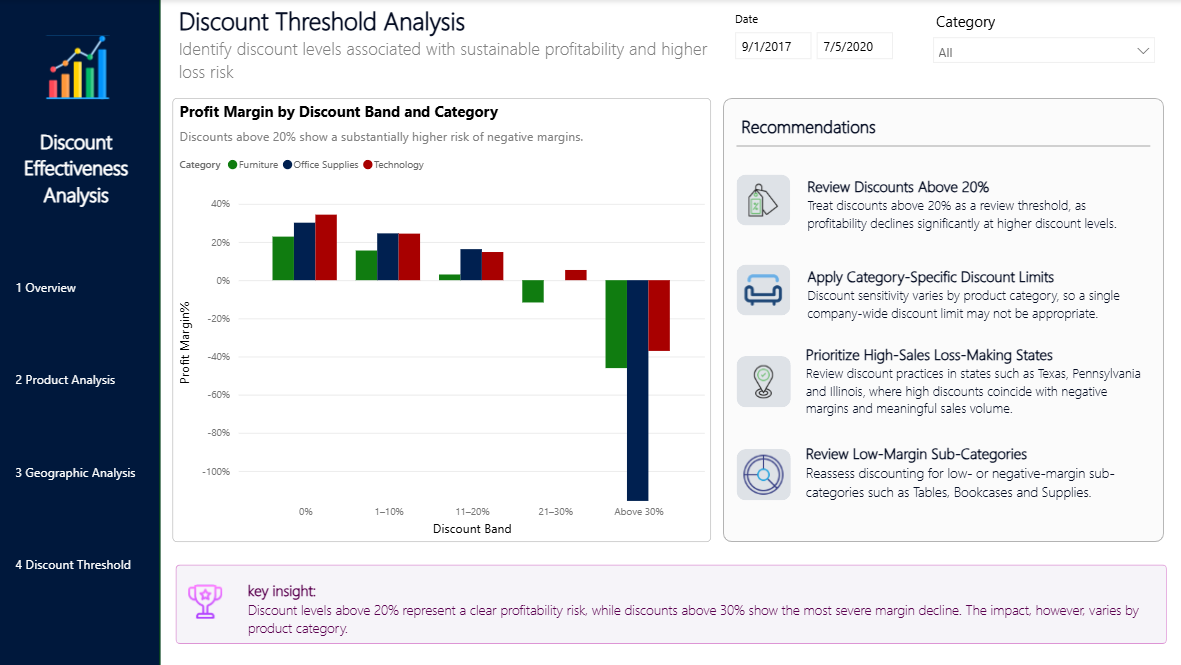

Layout of this report page (visuals, bound fields, positions):
{"tool":"powerbi","page":{"name":"Discount Threshold","canvas":[1280,720],"ordinal":3},"visuals":[{"type":"shape","box":[0,0,176.4,808.3],"z":0,"group":"g1"},{"type":"shape","box":[783.7,106.9,476.1,479.3],"z":0},{"type":"textbox","box":[190.5,0,593.7,106.3],"z":1000},{"type":"actionButton","title":"4 Discount Threshold","box":[0,268.4,176.2,83.4],"z":1000,"group":"g1"},{"type":"slicer","fields":{"Values":["DIM_Product.Category"]},"box":[1000.7,8.1,259.1,66.4],"z":2000},{"type":"actionButton","title":"3 Geographic Analysis","box":[0.6,369,176.4,82.6],"z":2000,"group":"g1"},{"type":"slicer","fields":{"Values":["DIM_Date.Date"]},"box":[783.7,8.1,217,66.4],"z":3000},{"type":"actionButton","title":"2 Product Analysis","box":[0.6,468.9,176.4,82.6],"z":3000,"group":"g1"},{"type":"clusteredColumnChart","title":"Profit Margin by Discount Band and Category","fields":{"Y":["Measures_Table.profit margin"],"Category":["Fact_Sales.Discount Band"],"Series":["DIM_Product.Category"]},"box":[189.4,106.9,581.3,479.3],"z":4000},{"type":"actionButton","title":"1 Overview","box":[0.6,568.8,176.4,82.6],"z":4000,"group":"g1"},{"type":"textbox","box":[798.3,119.8,446.9,38.9],"z":5000},{"type":"textbox","box":[15.2,132.8,141.6,111.8],"z":5000,"group":"g1"},{"type":"shape","box":[798.3,140.9,446.9,35.6],"z":6000},{"type":"textbox","box":[869,186.8,377.3,79.3],"z":7000},{"type":"textbox","box":[869,282.8,377.3,79.3],"z":8000},{"type":"textbox","box":[868.3,368.3,377.8,90.5],"z":9000},{"type":"textbox","box":[868.3,474.6,377.8,79.4],"z":10000},{"type":"group","id":"g1","title":"Sidebar Panel","box":[0,0,177,808.3],"z":11000},{"type":"actionButton","box":[41.7,35,90,76.7],"z":12000},{"type":"group","id":"g2","title":"insight bar","box":[192.7,610.4,1070.3,85.8],"z":13000},{"type":"shape","box":[192.7,610.4,1070.3,85.8],"z":13500,"group":"g2"},{"type":"actionButton","box":[798.3,189.4,58.3,55.1],"z":14000},{"type":"actionButton","box":[202.2,627.6,57.2,44.9],"z":14000,"group":"g2"},{"type":"textbox","box":[265,621.7,995.7,72.6],"z":14500,"group":"g2"},{"type":"actionButton","box":[798.3,287.1,58.3,55.1],"z":15000},{"type":"actionButton","box":[798.4,485.7,58.7,55.6],"z":16000},{"type":"actionButton","box":[798.4,385.7,58.7,55.6],"z":17000}]}

Visuals, with their boxes on the page's 1280x720 design canvas (x1, y1, x2, y2). These are canvas units, not pixel positions in the 1181x665 screenshot, which may show the page scaled, cropped or inside an application window:
shape: detection(0, 0, 176, 808)
shape: detection(784, 107, 1260, 586)
textbox: detection(190, 0, 784, 106)
"4 Discount Threshold" actionButton: detection(0, 268, 176, 352)
slicer - DIM_Product.Category: detection(1001, 8, 1260, 74)
"3 Geographic Analysis" actionButton: detection(1, 369, 177, 452)
slicer - DIM_Date.Date: detection(784, 8, 1001, 74)
"2 Product Analysis" actionButton: detection(1, 469, 177, 552)
"Profit Margin by Discount Band and Category" clusteredColumnChart: detection(189, 107, 771, 586)
"1 Overview" actionButton: detection(1, 569, 177, 651)
textbox: detection(798, 120, 1245, 159)
textbox: detection(15, 133, 157, 245)
shape: detection(798, 141, 1245, 176)
textbox: detection(869, 187, 1246, 266)
textbox: detection(869, 283, 1246, 362)
textbox: detection(868, 368, 1246, 459)
textbox: detection(868, 475, 1246, 554)
"Sidebar Panel" group: detection(0, 0, 177, 808)
actionButton: detection(42, 35, 132, 112)
"insight bar" group: detection(193, 610, 1263, 696)
shape: detection(193, 610, 1263, 696)
actionButton: detection(798, 189, 857, 244)
actionButton: detection(202, 628, 259, 672)
textbox: detection(265, 622, 1261, 694)
actionButton: detection(798, 287, 857, 342)
actionButton: detection(798, 486, 857, 541)
actionButton: detection(798, 386, 857, 441)
